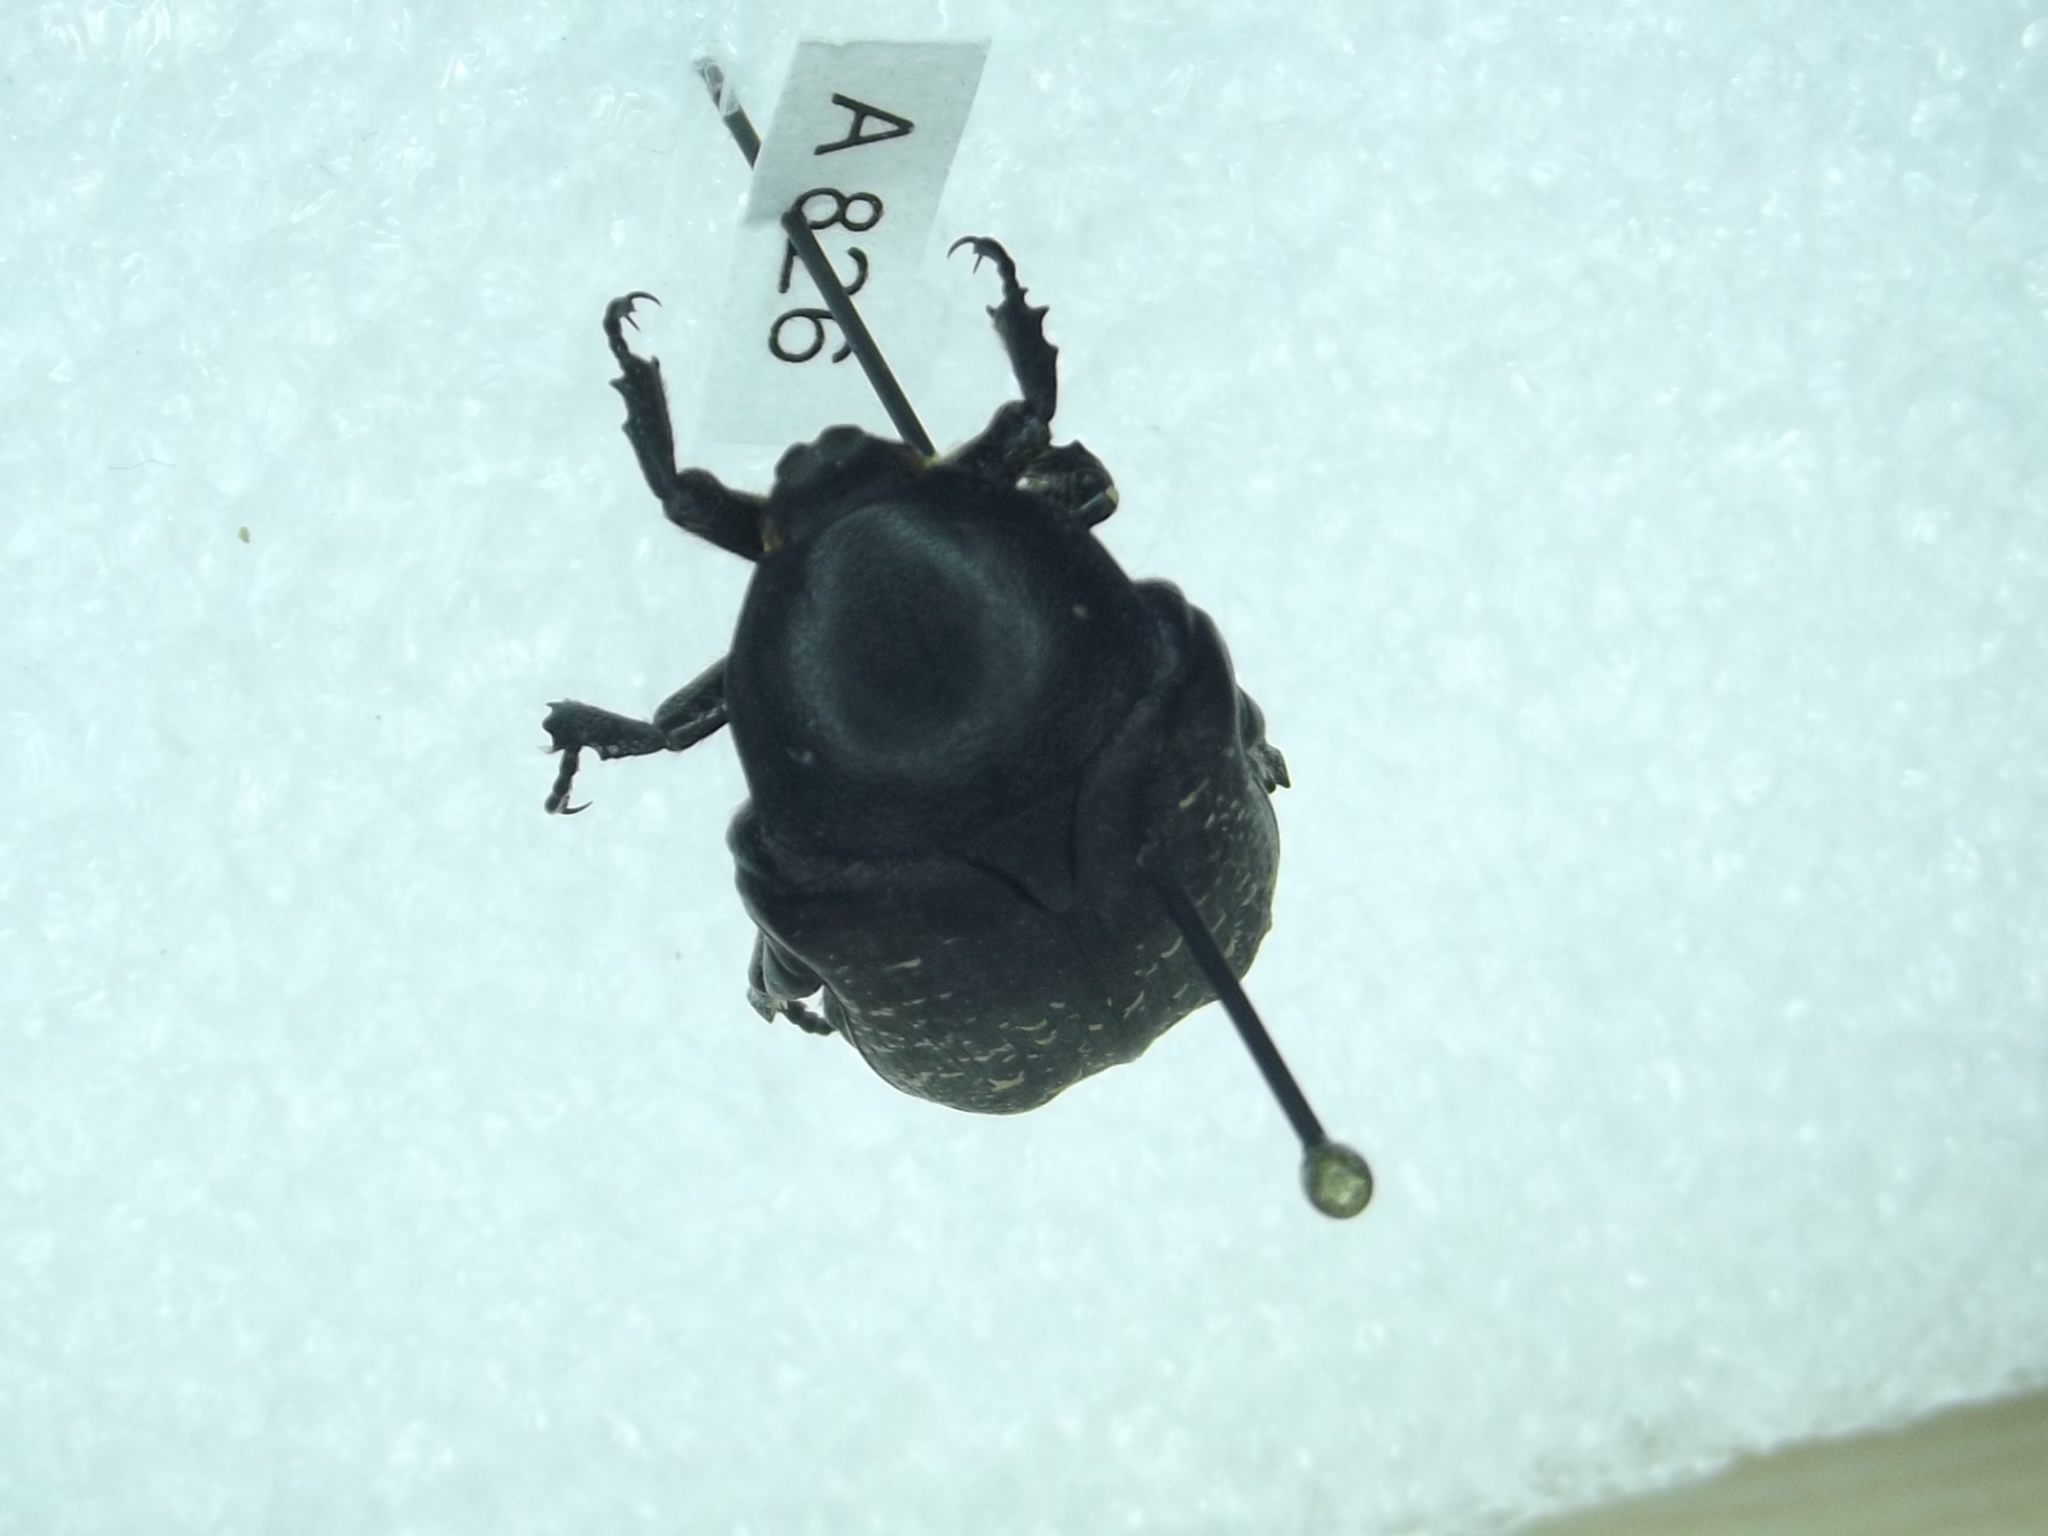Protaetia_oblonga: (529, 210, 1329, 1165)
